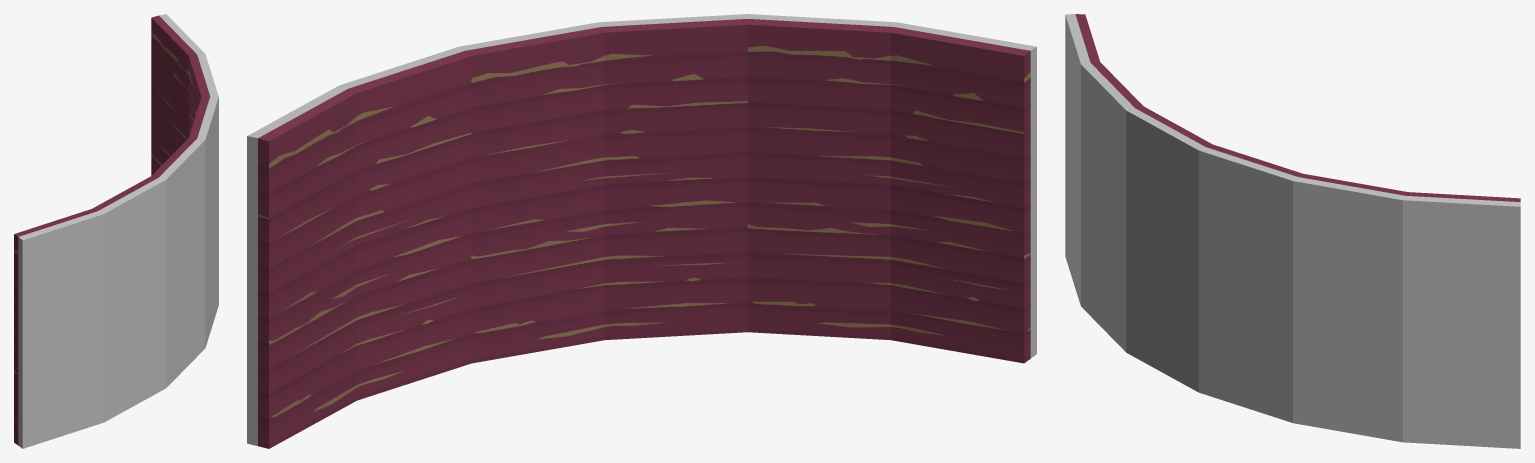
Rendered from SM_Bld_Wall_Curved_L_01.fbx.
The picture shows the model from 3 angles, left to right: view 1: azimuth 30°, elevation 25°; view 2: azimuth 150°, elevation 25°; view 3: azimuth 270°, elevation 25°; orthographic projection. The views are drawn at different scales.
Visible parts, largest first — view 1: SM_Bld_Wall_Curved_L_01; view 2: SM_Bld_Wall_Curved_L_01; view 3: SM_Bld_Wall_Curved_L_01.
Boxes of the visible parts, x1=… form: SM_Bld_Wall_Curved_L_01: x1=14, y1=14, x2=218, y2=448; SM_Bld_Wall_Curved_L_01: x1=247, y1=14, x2=1036, y2=448; SM_Bld_Wall_Curved_L_01: x1=1065, y1=14, x2=1520, y2=448.
Size of the model in its own units: 511 by 301 by 511.
